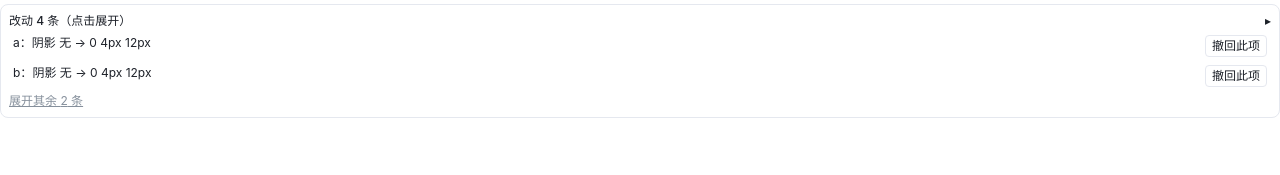
折叠 › 折叠时可一键展开其余
This screenshot has width=1280, height=175.
Click the button "展开其余 2 条" at {"x": 46, "y": 101}, box [9,93,83,109]
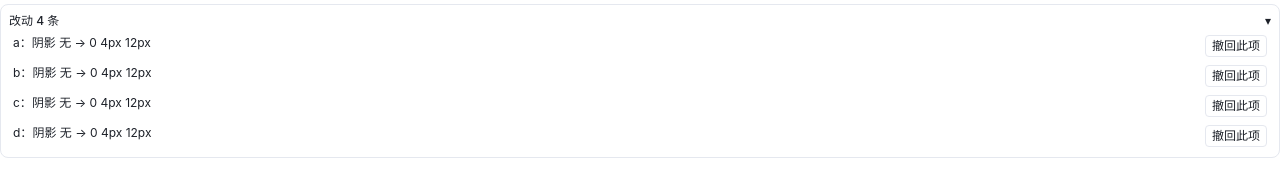
Result: the list item with test id "change-item-3" is shown at [9,123,1271,149]
